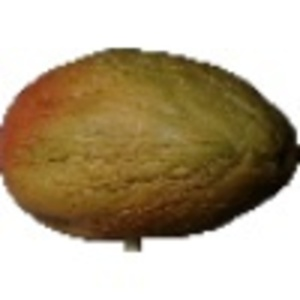mamão: (2, 41, 296, 242)
